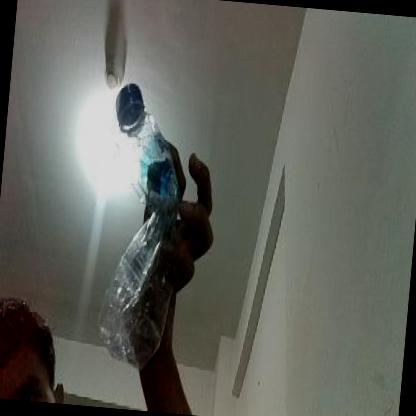plastic_bottles: (88, 77, 188, 370)
